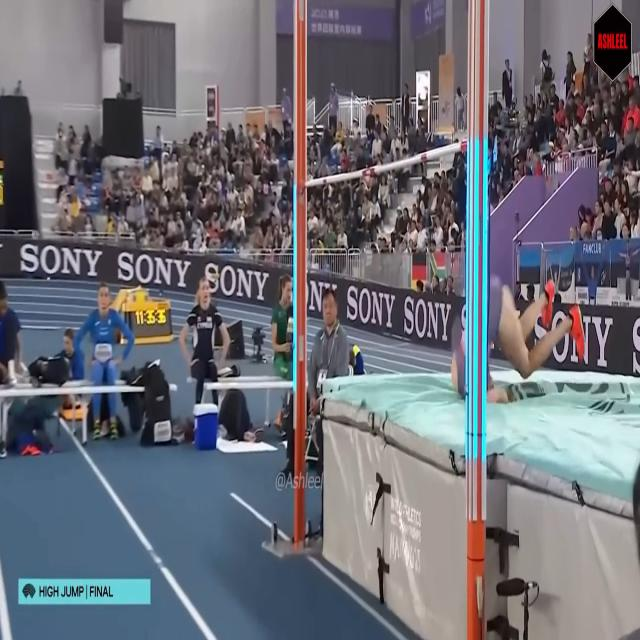land: (451, 275, 586, 405)
